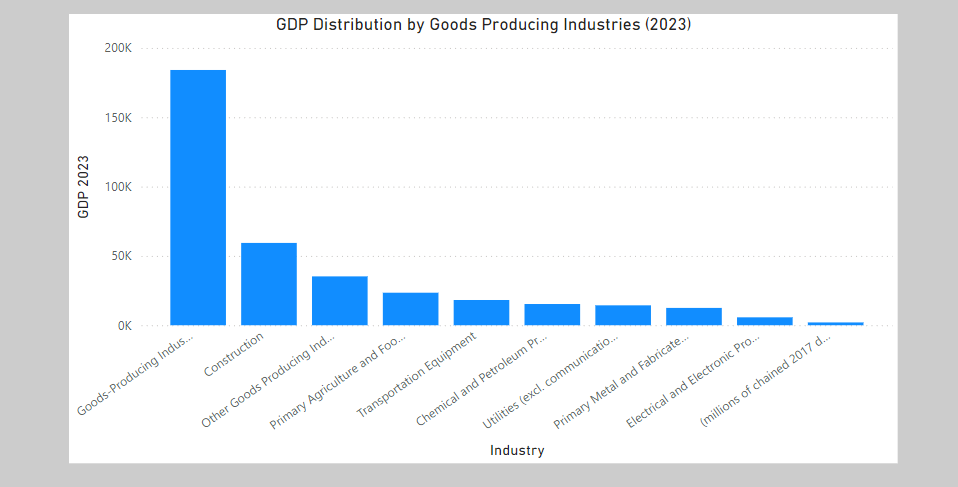

The page's visual inventory and layout, read from the dashboard file:
{"tool":"powerbi","page":{"name":"Page 1","canvas":[1280,720],"ordinal":0},"visuals":[{"type":"columnChart","title":"GDP Distribution by Goods Producing Industries (2023)","fields":{"Y":["Sum(Englsih.Column19)"],"Category":["Englsih.GDP by Goods Producing Industries, Ontario, 2007-2023"]},"box":[206.2,141,806.3,436.7],"z":0}]}

Visuals, with their boxes on the page's 1280x720 design canvas (x1, y1, x2, y2). These are canvas units, not pixel positions in the 958x487 screenshot, which may show the page scaled, cropped or inside an application window:
"GDP Distribution by Goods Producing Industries (2023)" columnChart: crop(206, 141, 1012, 578)
